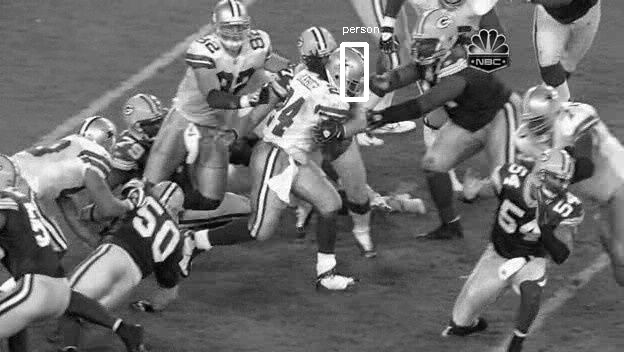person: (329, 48, 364, 93), (328, 48, 363, 93), (330, 48, 365, 93), (329, 47, 364, 92), (329, 49, 364, 94)
target_negative: (53, 64, 520, 106), (142, 11, 194, 347), (13, 44, 261, 97), (502, 154, 557, 331), (335, 236, 508, 284), (458, 42, 480, 65)
